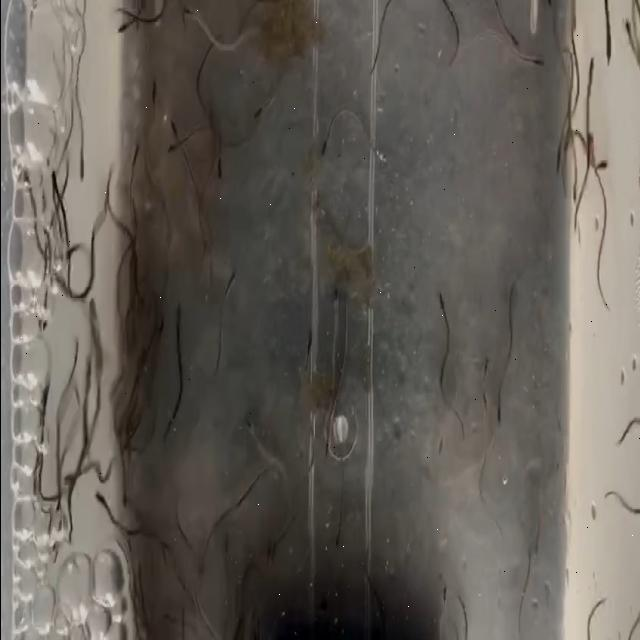active_glass_eel: (501, 15, 527, 66), (547, 128, 568, 188), (326, 510, 347, 566), (322, 275, 344, 328), (316, 114, 334, 178), (111, 8, 131, 62), (488, 390, 505, 448), (219, 266, 243, 307), (126, 132, 142, 192), (430, 281, 448, 333), (70, 134, 90, 180), (431, 424, 450, 472), (320, 418, 338, 468), (592, 134, 608, 188), (298, 320, 314, 374), (234, 414, 261, 446), (76, 354, 95, 398), (478, 322, 490, 390), (193, 553, 213, 591), (533, 52, 550, 96), (436, 566, 452, 612), (215, 524, 233, 564), (80, 280, 96, 324), (302, 438, 318, 481), (208, 156, 224, 198), (246, 96, 267, 128), (62, 452, 76, 500), (566, 174, 584, 211), (262, 538, 280, 574), (583, 46, 597, 90), (114, 483, 132, 517), (148, 68, 160, 118), (90, 491, 112, 516), (180, 3, 197, 35), (169, 302, 185, 336), (167, 100, 180, 140), (50, 469, 60, 514), (38, 370, 50, 406), (86, 226, 100, 253), (164, 140, 180, 162)
